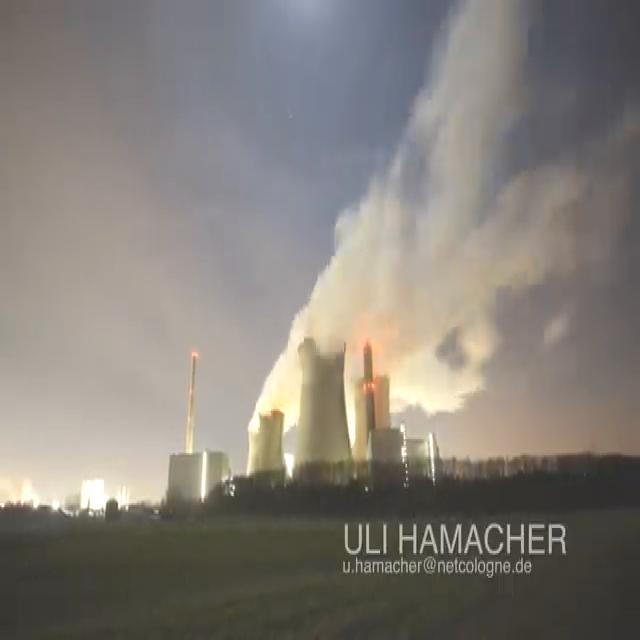smoke: (248, 0, 640, 473)
